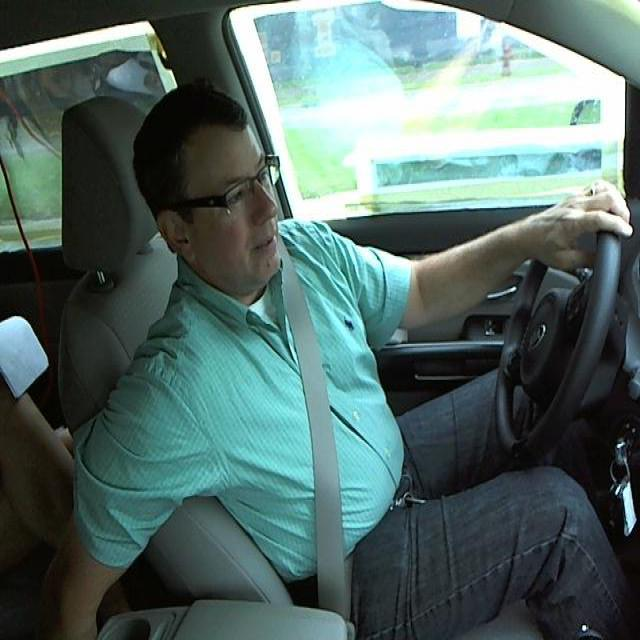seatbelt: (271, 259, 375, 616)
